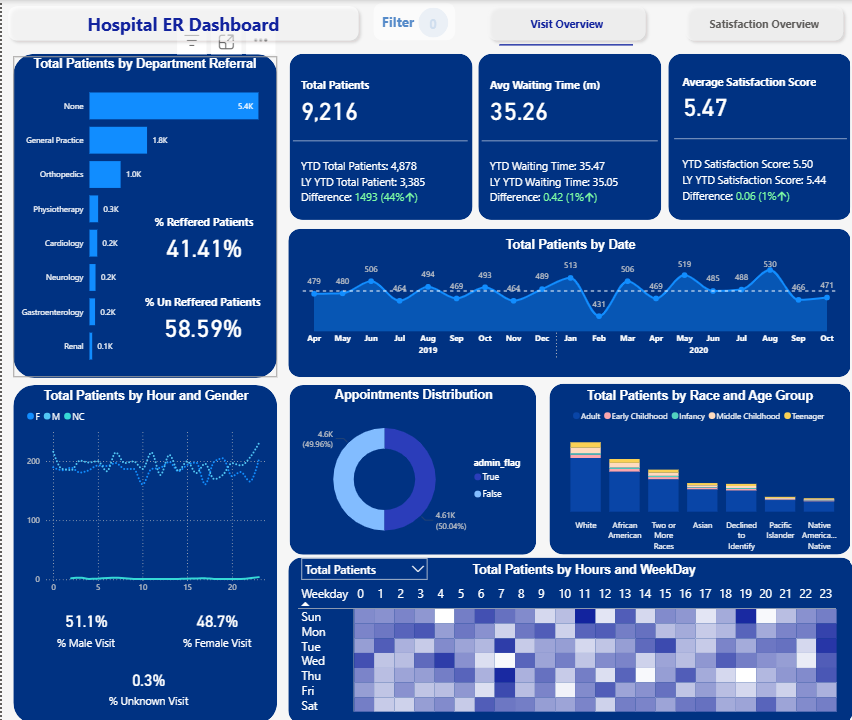

What the dashboard file says about the page in this screenshot:
{"tool":"powerbi","page":{"name":"Visit Overview","canvas":[1280,1080],"ordinal":0},"visuals":[{"type":"actionButton","box":[554.7,4,122.9,57.1],"z":0,"group":"g5"},{"type":"shape","box":[428.3,80,273.3,248.3],"z":0,"group":"g6"},{"type":"shape","box":[427.8,342.2,839.5,221.7],"z":0,"group":"g4"},{"type":"shape","box":[817.4,573.7,450,255],"z":0,"group":"g3"},{"type":"shape","box":[429.4,573.9,368.3,253.3],"z":0,"group":"g2"},{"type":"shape","box":[16.2,574,394,506],"z":0},{"type":"shape","box":[426.7,832,845,248.3],"z":0,"group":"g1"},{"type":"actionButton","box":[622,11.1,45,45],"z":1000,"group":"g5"},{"type":"shape","box":[16,80,394,484],"z":1000},{"type":"cardVisual","fields":{"Data":["Measure Tables.Total Patients"]},"box":[428.3,85,271.7,248.3],"z":1000,"group":"g6"},{"type":"areaChart","title":"Total Patients by Date","fields":{"Y":["Measure Tables.Total Patients"],"Category":["Dim_Date.Year Hierarchy.Year","Dim_Date.Year Hierarchy.MonthName (Short)","Dim_Date.Year Hierarchy.DayNo"]},"box":[445.1,354.8,809.6,190.2],"z":1000,"group":"g4"},{"type":"donutChart","title":"Appointments Distribution","fields":{"Category":["Hospital ER.patient_admin_flag"],"Y":["CountNonNull(Hospital ER.patient_admin_flag)"]},"box":[433.7,574,363.3,255],"z":1000,"group":"g2"},{"type":"columnChart","title":"Total Patients by Race and Age Group","fields":{"Category":["Hospital ER.patient_race"],"Y":["Measure Tables.Total Patients"],"Series":["Hospital ER.Age Group"]},"box":[818.2,580.8,449.3,250.7],"z":1000,"group":"g3"},{"type":"pivotTable","fields":{"Values":["Measure Tables.Total Patients"],"Rows":["Dim_Date.ShortWeekdayName"],"Columns":["Dim_Time.Hour"]},"box":[435.6,868.6,836.7,211.7],"z":1000,"group":"g1"},{"type":"actionButton","title":"Visit Overview Button","box":[716.2,-0.2,253.1,69.2],"z":3000},{"type":"actionButton","title":"Satisfaction Overview Button","box":[1010.7,0,253.3,69.3],"z":4000},{"type":"shape","box":[742.6,54.8,199.3,25.7],"z":5000},{"type":"group","id":"g1","title":"Group 1","box":[426.7,832,845.6,248.3],"z":6000},{"type":"group","id":"g2","title":"Group 2","box":[429.4,573.9,368.3,255.1],"z":7000},{"type":"group","id":"g3","title":"Group 3","box":[817.4,573.7,450.1,257.7],"z":8000},{"type":"group","id":"g4","title":"Group 4","box":[427.8,342.2,840,222.2],"z":9000},{"type":"group","id":"g5","title":"Group 6","box":[554.7,4,122.7,57.3],"z":10000},{"type":"group","id":"g6","title":"Group 9","box":[428.3,80,273.3,253.3],"z":11000},{"type":"group","id":"g7","title":"Group 10","box":[193.3,301.7,211.7,226.7],"z":11500},{"type":"clusteredBarChart","title":"Total Patients by Department Referral","fields":{"Category":["Hospital ER.department_referral"],"Y":["Measure Tables.Total Patients"]},"box":[17.2,84.5,393.1,479.3],"z":12000},{"type":"cardVisual","fields":{"Data":["Measure Tables.% Reffered Patients"]},"box":[208.3,301.7,185,106.7],"z":13500,"group":"g7"},{"type":"slicer","fields":{"Values":["Fields Parameter.Fields Parameter"]},"box":[435.7,822.9,208.6,45.7],"z":14000},{"type":"lineChart","title":"Total Patients by Hour and Gender","fields":{"Category":["Dim_Time.Hour"],"Series":["Hospital ER.patient_gender"],"Y":["Measure Tables.Total Patients"]},"box":[32,580,366.7,314.7],"z":15000},{"type":"card","fields":{"Values":["Measure Tables.% Male Visit"]},"box":[37,895,176.7,83.3],"z":16000},{"type":"card","fields":{"Values":["Measure Tables.% Female Visit"]},"box":[238.7,895,165,83.3],"z":17000},{"type":"card","fields":{"Values":["Measure Tables.% Unknown Visit"]},"box":[130.2,983.3,176.7,83.3],"z":18000},{"type":"actionButton","box":[0,0,541.3,69.3],"z":19000},{"type":"actionButton","title":"Heat Map Header","box":[644.3,832.9,450,35.7],"z":20000},{"type":"shape","box":[711.7,80,273.3,248.3],"z":21000},{"type":"shape","box":[995,80,273.3,248.3],"z":22000},{"type":"cardVisual","title":"Avg Waiting Time Card","fields":{"Data":["Measure Tables.Avg Waiting Time"]},"box":[711.7,85,273.3,248.3],"z":23000},{"type":"cardVisual","title":"Avg Sat Score Card","fields":{"Data":["Measure Tables.Average Satisfaction Score"]},"box":[998.3,80,268.3,253.3],"z":24000},{"type":"cardVisual","fields":{"Data":["Measure Tables.% Un Reffered Patients"]},"box":[193.3,421.7,211.7,106.7],"z":25000,"group":"g7"}]}

Visuals, with their boxes in screenshot pixels (x1, y1, x2, y2), scaled from the page's 1280x1080 canvas onto the 852x720 screenshot:
actionButton: box(369, 3, 451, 41)
shape: box(285, 53, 467, 219)
shape: box(285, 228, 844, 376)
shape: box(544, 382, 844, 552)
shape: box(286, 383, 531, 551)
shape: box(11, 383, 273, 719)
shape: box(284, 555, 846, 719)
actionButton: box(414, 7, 444, 37)
shape: box(11, 53, 273, 376)
cardVisual - Measure Tables.Total Patients: box(285, 57, 466, 222)
"Total Patients by Date" areaChart: box(296, 237, 835, 363)
"Appointments Distribution" donutChart: box(289, 383, 531, 553)
"Total Patients by Race and Age Group" columnChart: box(545, 387, 844, 554)
pivotTable - Measure Tables.Total Patients x Dim_Date.ShortWeekdayName: box(290, 579, 847, 719)
"Visit Overview Button" actionButton: box(477, 0, 645, 46)
"Satisfaction Overview Button" actionButton: box(673, 0, 841, 46)
shape: box(494, 37, 627, 54)
"Group 1" group: box(284, 555, 847, 719)
"Group 2" group: box(286, 383, 531, 553)
"Group 3" group: box(544, 382, 844, 554)
"Group 4" group: box(285, 228, 844, 376)
"Group 6" group: box(369, 3, 451, 41)
"Group 9" group: box(285, 53, 467, 222)
"Group 10" group: box(129, 201, 270, 352)
"Total Patients by Department Referral" clusteredBarChart: box(11, 56, 273, 376)
cardVisual - Measure Tables.% Reffered Patients: box(139, 201, 262, 272)
slicer - Fields Parameter.Fields Parameter: box(290, 549, 429, 579)
"Total Patients by Hour and Gender" lineChart: box(21, 387, 265, 596)
card - Measure Tables.% Male Visit: box(25, 597, 142, 652)
card - Measure Tables.% Female Visit: box(159, 597, 269, 652)
card - Measure Tables.% Unknown Visit: box(87, 656, 204, 711)
actionButton: box(0, 0, 360, 46)
"Heat Map Header" actionButton: box(429, 555, 728, 579)
shape: box(474, 53, 656, 219)
shape: box(662, 53, 844, 219)
"Avg Waiting Time Card" cardVisual: box(474, 57, 656, 222)
"Avg Sat Score Card" cardVisual: box(664, 53, 843, 222)
cardVisual - Measure Tables.% Un Reffered Patients: box(129, 281, 270, 352)
